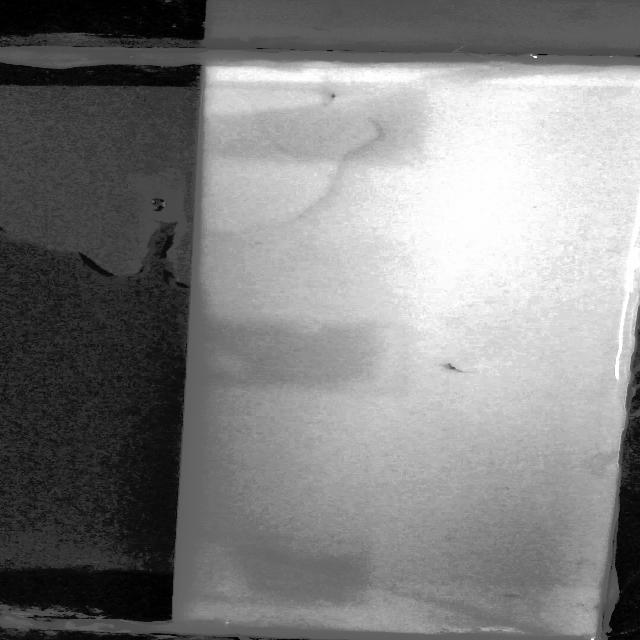shrimp: (431, 358, 474, 382), (494, 590, 530, 605), (324, 90, 345, 106)
